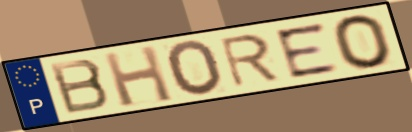B: (46, 57, 113, 117)
E: (271, 20, 343, 81)
H: (100, 43, 177, 109)
O: (329, 12, 396, 71), (164, 38, 226, 99)
R: (216, 32, 283, 90)
